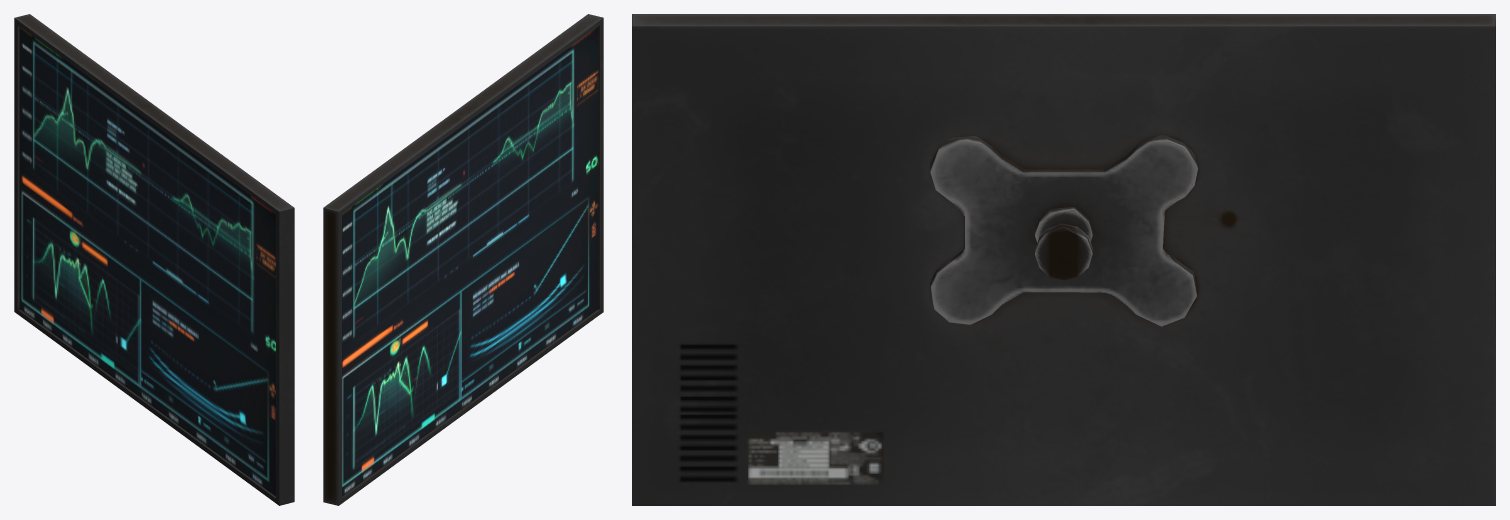
File: SM_ScreensA02.gltf
The picture shows the model from 3 angles, left to right: view 1: azimuth 30°, elevation 25°; view 2: azimuth 150°, elevation 25°; view 3: azimuth 270°, elevation 25°; orthographic projection. The views are drawn at different scales.
Parts seen in each view (by area): view 1: SM_ScreensA02; view 2: SM_ScreensA02; view 3: SM_ScreensA02.
Part boxes in pixels (bbox=[...]): SM_ScreensA02: bbox=[14, 14, 294, 505]; SM_ScreensA02: bbox=[323, 14, 603, 505]; SM_ScreensA02: bbox=[632, 14, 1495, 505].
Bounding box in the file's own units: 0.1114 × 0.632 × 1.03.
1 material, 1 textured.
